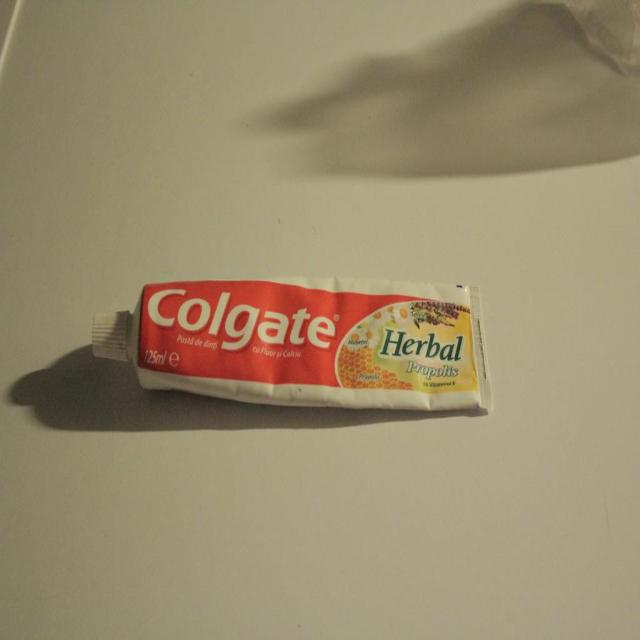Toothpaste: (88, 267, 494, 422)
